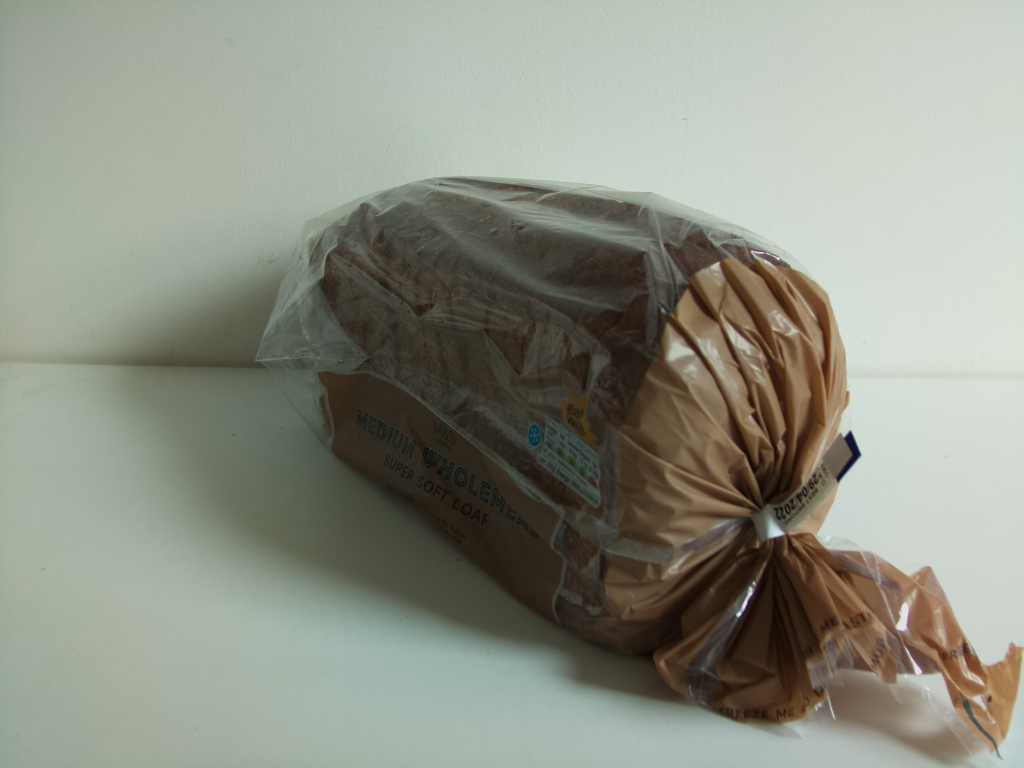bread: (252, 175, 1024, 761)
